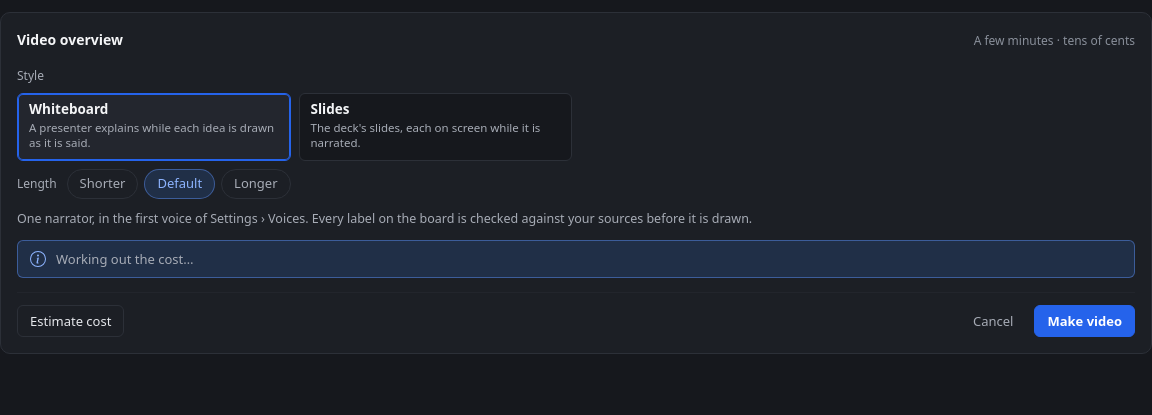
Test: the Video overview tool › says why it could not start
This screenshot has width=1152, height=415.
Click the button "Make video" at (1085, 321), box [1034,305,1135,337]
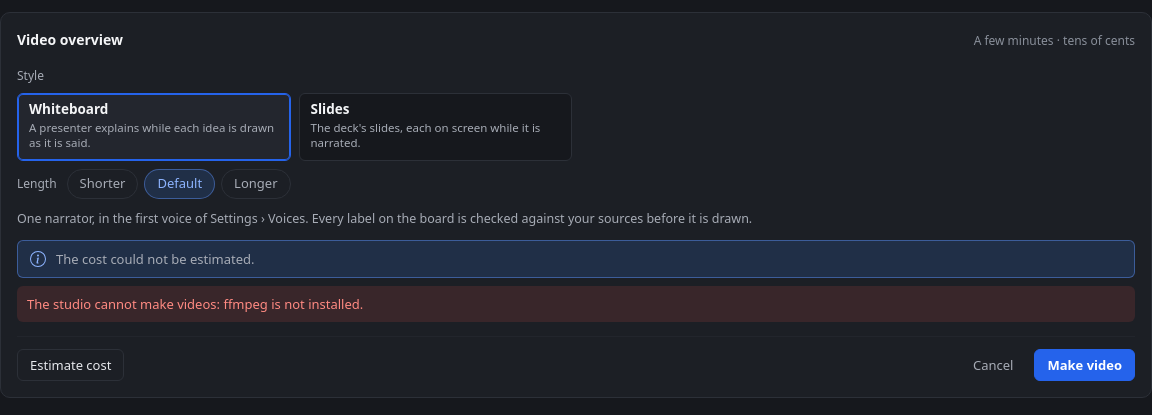
Now the message "The studio cannot make videos: ffmpeg is not installed." is shown, box [17,286,1135,322]
